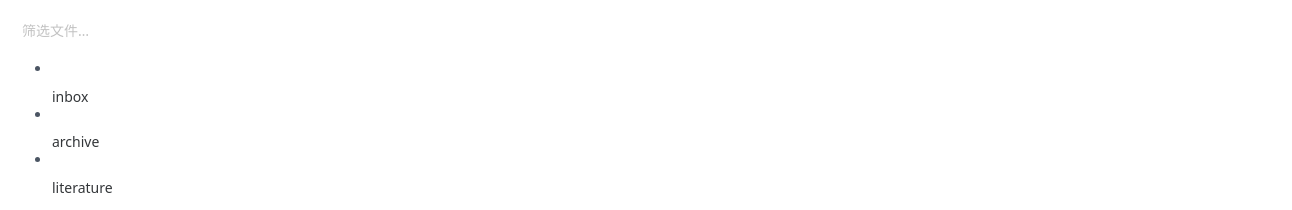
Test: Files filter › keeps the complete subtree when a folder matches
Type "archive" into the field with class "search-input" at point(652, 30), box [22, 16, 1282, 44]
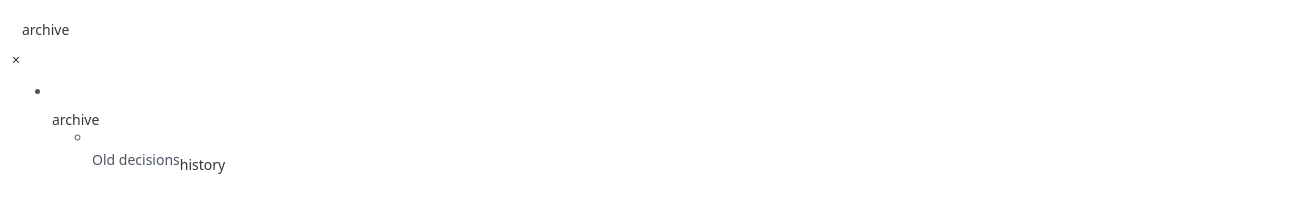
Check: the text "history" is shown, box [180, 158, 225, 172]
